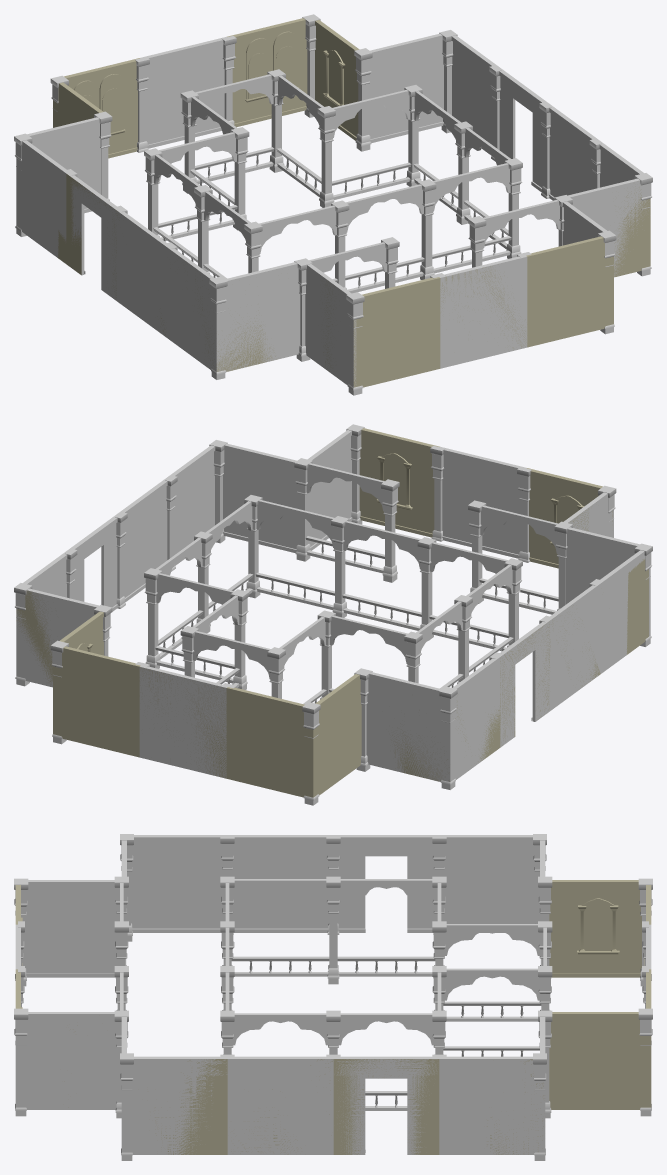
Rendered from Homeworld_Interior_Md_Room_D_Wall_01_Vo.fbx.
The picture shows the model from 3 angles, top to bottom: view 1: azimuth 30°, elevation 25°; view 2: azimuth 150°, elevation 25°; view 3: azimuth 270°, elevation 25°; orthographic projection. The views are drawn at different scales.
Visible parts, largest first — view 1: Homeworld_Interior_Md_Room_Wall_01_Vo (×14), Homeworld_Interior_Md_Room_Wall_05_Vo (×14), Homeworld_Interior_Md_Room_D_Filling_01_Vo, Homeworld_Interior_Md_Room_Pillar_01_Vo (×21), Homeworld_Interior_Md_Room_Wall_02_Vo (×2), Homeworld_Interior_Md_Room_Wall_03_Vo (×3), Homeworld_Interior_Md_Room_Wall_06_Vo (×2), Homeworld_Interior_Md_Room_Pillar_02_Vo (×4); view 2: Homeworld_Interior_Md_Room_Wall_01_Vo (×14), Homeworld_Interior_Md_Room_D_Filling_01_Vo, Homeworld_Interior_Md_Room_Wall_05_Vo (×14), Homeworld_Interior_Md_Room_Pillar_01_Vo (×21), Homeworld_Interior_Md_Room_Wall_03_Vo (×4), Homeworld_Interior_Md_Room_Wall_06_Vo (×2), Homeworld_Interior_Md_Room_Pillar_02_Vo (×4); view 3: Homeworld_Interior_Md_Room_Wall_01_Vo (×8), Homeworld_Interior_Md_Room_D_Filling_01_Vo, Homeworld_Interior_Md_Room_Wall_05_Vo (×6), Homeworld_Interior_Md_Room_Wall_03_Vo (×2), Homeworld_Interior_Md_Room_Pillar_01_Vo (×18), Homeworld_Interior_Md_Room_Wall_06_Vo (×2), Homeworld_Interior_Md_Room_Pillar_02_Vo (×3).
Part boxes in pixels (bbox=[...]): Homeworld_Interior_Md_Room_Wall_01_Vo (×14): bbox=[16, 33, 650, 387]; Homeworld_Interior_Md_Room_Wall_05_Vo (×14): bbox=[153, 74, 560, 293]; Homeworld_Interior_Md_Room_D_Filling_01_Vo: bbox=[53, 83, 650, 387]; Homeworld_Interior_Md_Room_Pillar_01_Vo (×21): bbox=[94, 14, 522, 395]; Homeworld_Interior_Md_Room_Wall_02_Vo (×2): bbox=[64, 18, 307, 158]; Homeworld_Interior_Md_Room_Wall_03_Vo (×3): bbox=[315, 20, 613, 371]; Homeworld_Interior_Md_Room_Wall_06_Vo (×2): bbox=[67, 68, 549, 300]; Homeworld_Interior_Md_Room_Pillar_02_Vo (×4): bbox=[135, 35, 551, 198]; Homeworld_Interior_Md_Room_Wall_01_Vo (×14): bbox=[16, 430, 650, 781]; Homeworld_Interior_Md_Room_D_Filling_01_Vo: bbox=[16, 508, 648, 797]; Homeworld_Interior_Md_Room_Wall_05_Vo (×14): bbox=[155, 463, 558, 704]; Homeworld_Interior_Md_Room_Pillar_01_Vo (×21): bbox=[144, 424, 572, 805]; Homeworld_Interior_Md_Room_Wall_03_Vo (×4): bbox=[60, 428, 612, 796]; Homeworld_Interior_Md_Room_Wall_06_Vo (×2): bbox=[67, 514, 550, 747]; Homeworld_Interior_Md_Room_Pillar_02_Vo (×4): bbox=[115, 445, 531, 608]; Homeworld_Interior_Md_Room_Wall_01_Vo (×8): bbox=[15, 835, 545, 1154]; Homeworld_Interior_Md_Room_D_Filling_01_Vo: bbox=[64, 1014, 651, 1154]; Homeworld_Interior_Md_Room_Wall_05_Vo (×6): bbox=[231, 879, 541, 1110]; Homeworld_Interior_Md_Room_Wall_03_Vo (×2): bbox=[549, 880, 651, 1107]; Homeworld_Interior_Md_Room_Pillar_01_Vo (×18): bbox=[14, 834, 652, 1160]; Homeworld_Interior_Md_Room_Wall_06_Vo (×2): bbox=[333, 835, 439, 1154]; Homeworld_Interior_Md_Room_Pillar_02_Vo (×3): bbox=[220, 835, 446, 934].
Size of what is drawn, in the model's own units: 25.17 by 5.34 by 30.17.
